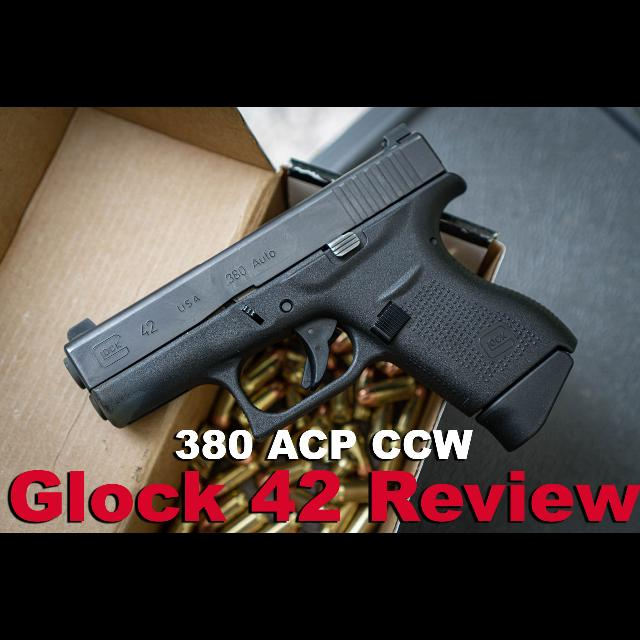handgun: (56, 120, 586, 458)
